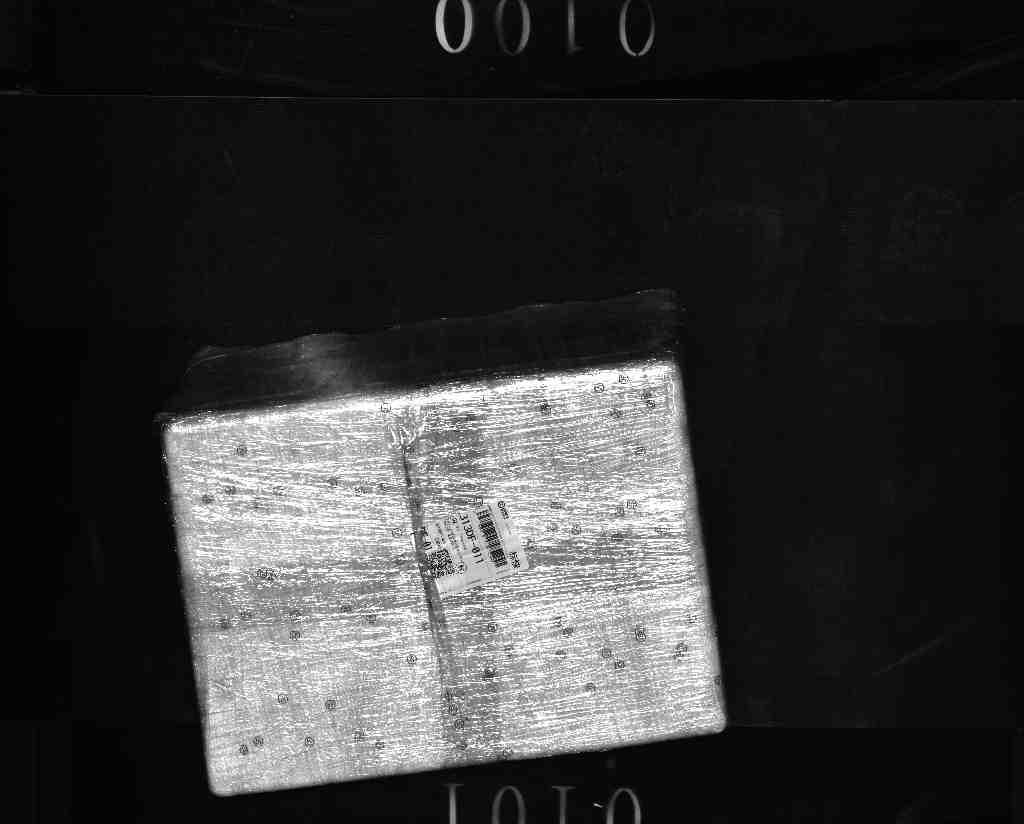box: (148, 313, 731, 794)
